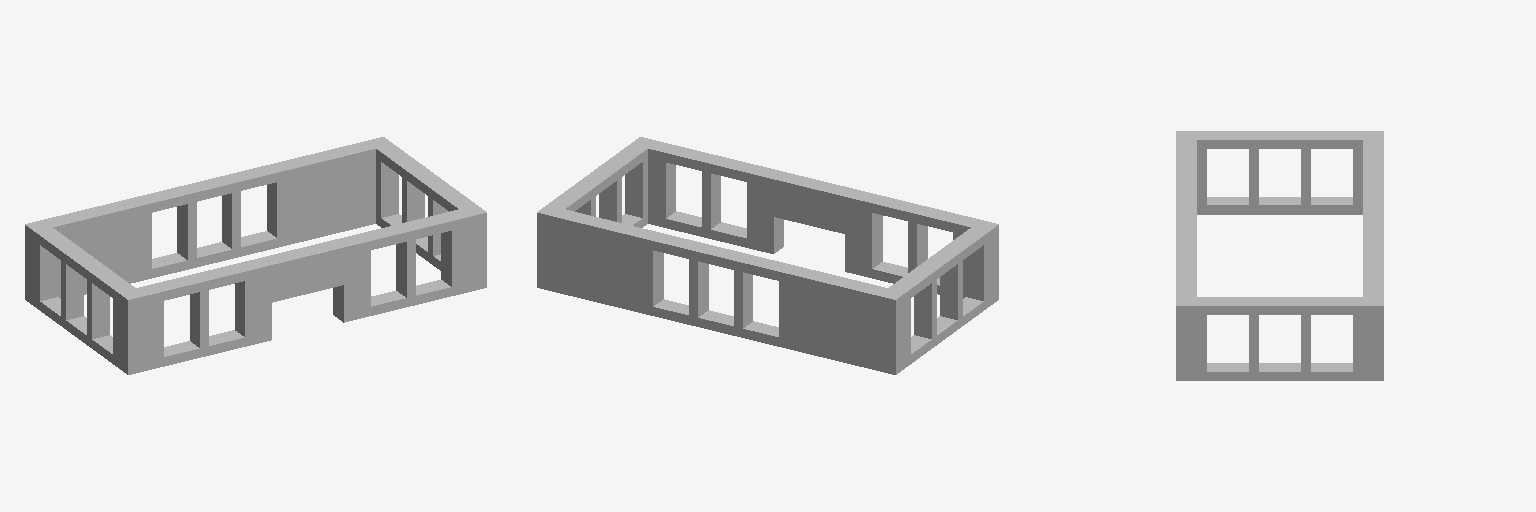
The model's file is rothenburg_10_5_upper_all.obj.
3 renders of one model, left to right at view 1: azimuth 30°, elevation 25°; view 2: azimuth 150°, elevation 25°; view 3: azimuth 270°, elevation 25°, orthographic.
Parts seen in each view (by area): view 1: Rothenburg_Upper_All; view 2: Rothenburg_Upper_All; view 3: Rothenburg_Upper_All.
Boxes of the visible parts, <box> form: Rothenburg_Upper_All: <box>25,137,486,374</box>; Rothenburg_Upper_All: <box>537,137,998,374</box>; Rothenburg_Upper_All: <box>1176,131,1383,380</box>.
Size of the model in its own units: 10 by 2 by 5.